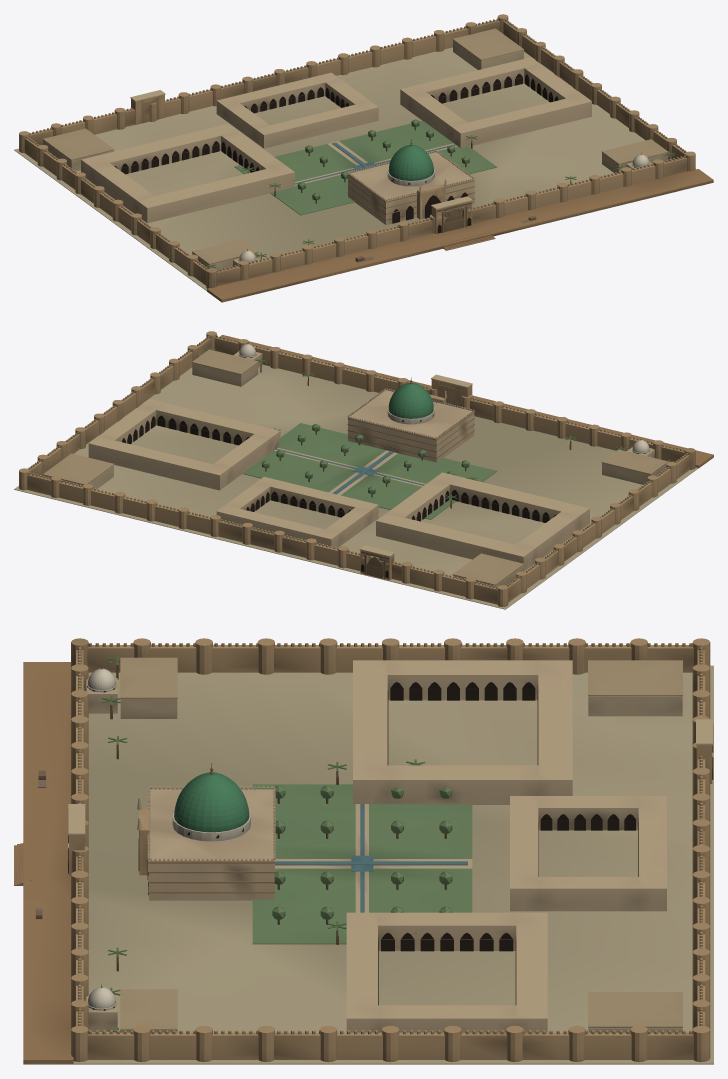
Rendered from khuld-palace.glb.
The picture shows the model from 3 angles, top to bottom: view 1: azimuth 30°, elevation 25°; view 2: azimuth 150°, elevation 25°; view 3: azimuth 270°, elevation 25°; orthographic projection. The views are drawn at different scales.
Visible parts, largest first — view 1: p0_ground, p2_halls, p1_walls, p3_dome and gardens; view 2: p2_halls, p0_ground, p1_walls, p3_dome and gardens; view 3: p0_ground, p2_halls, p1_walls, p3_dome and gardens.
Part boxes in pixels (x1,y1,x2,y2): p0_ground: [14, 47, 713, 302]; p2_halls: [43, 28, 668, 270]; p1_walls: [19, 14, 695, 288]; p3_dome and gardens: [204, 119, 674, 268]; p2_halls: [43, 349, 668, 587]; p0_ground: [14, 335, 713, 609]; p1_walls: [19, 331, 695, 606]; p3_dome and gardens: [204, 343, 674, 519]; p0_ground: [14, 662, 713, 1064]; p2_halls: [120, 657, 682, 1032]; p1_walls: [68, 638, 713, 1062]; p3_dome and gardens: [35, 656, 472, 1032].
Bounding box in the file's own units: 300 × 35.99 × 223.
